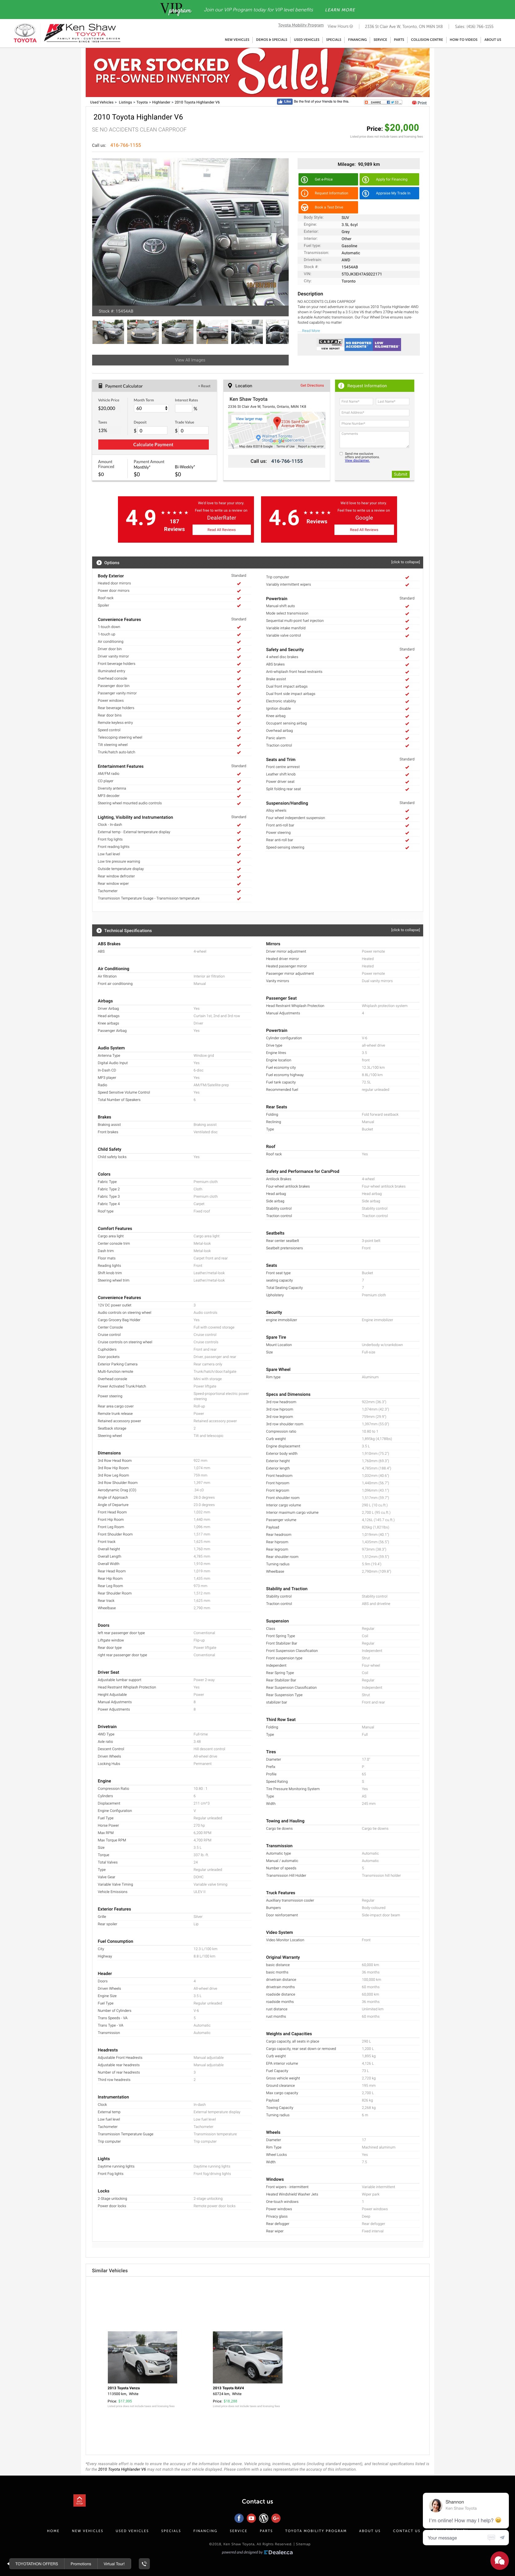car: (276, 225, 290, 240)
